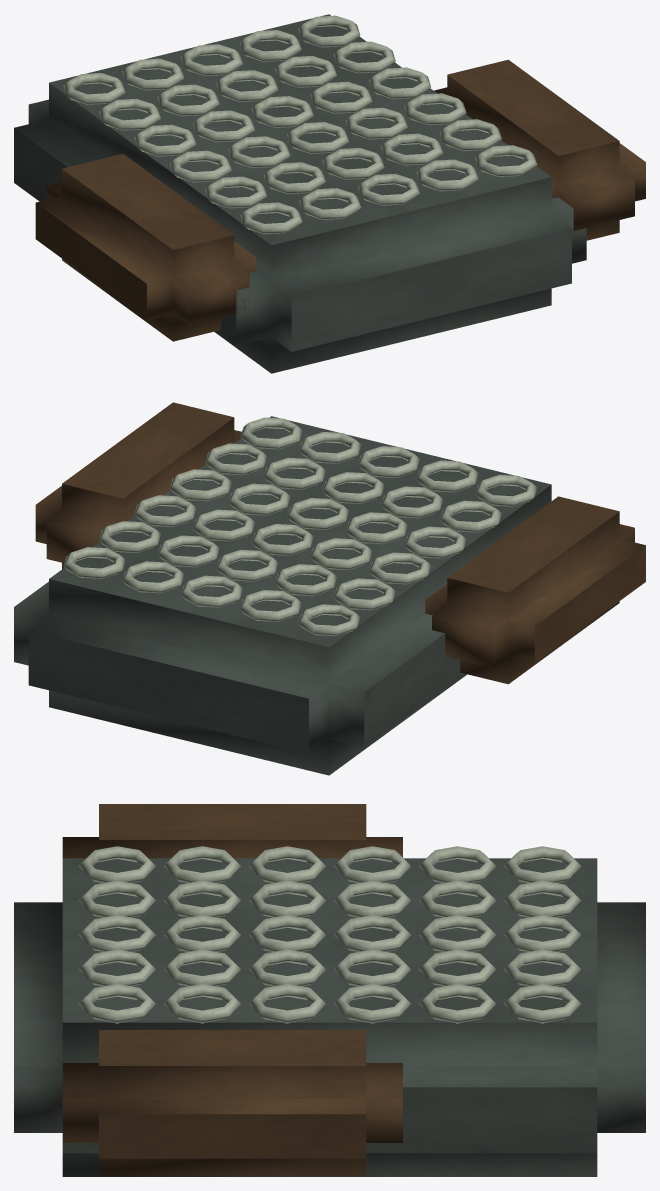
The model's file is item-ChainMail.fbx.
3 views of the same model, one above another, from view 1: azimuth 30°, elevation 25°; view 2: azimuth 150°, elevation 25°; view 3: azimuth 270°, elevation 25° (orthographic). The views are drawn at different scales.
Parts seen in each view (by area): view 1: item-ChainMail__Geometry; view 2: item-ChainMail__Geometry; view 3: item-ChainMail__Geometry.
Boxes of the visible parts, x1,y1,x2,y2 form: item-ChainMail__Geometry: (14,14,645,373); item-ChainMail__Geometry: (14,402,645,775); item-ChainMail__Geometry: (14,804,645,1176).
Size of the model in its own units: 0.57 by 0.151 by 0.52.
Materials: 1 (1 with a texture image).
